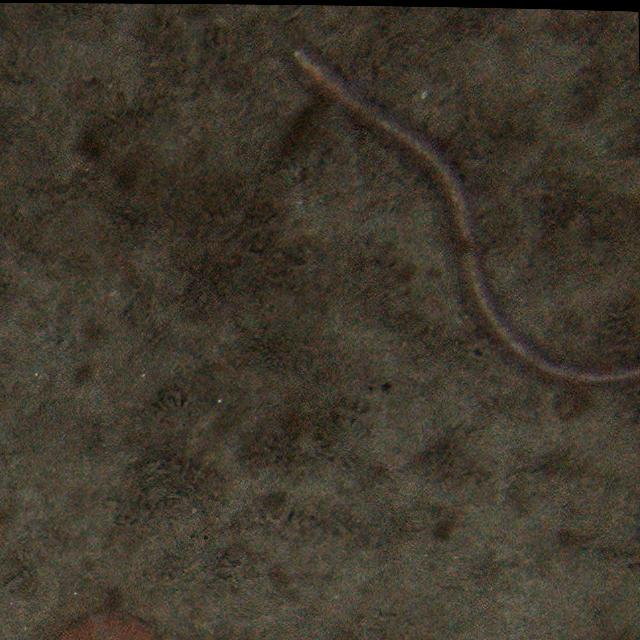eel: (294, 48, 640, 388)
